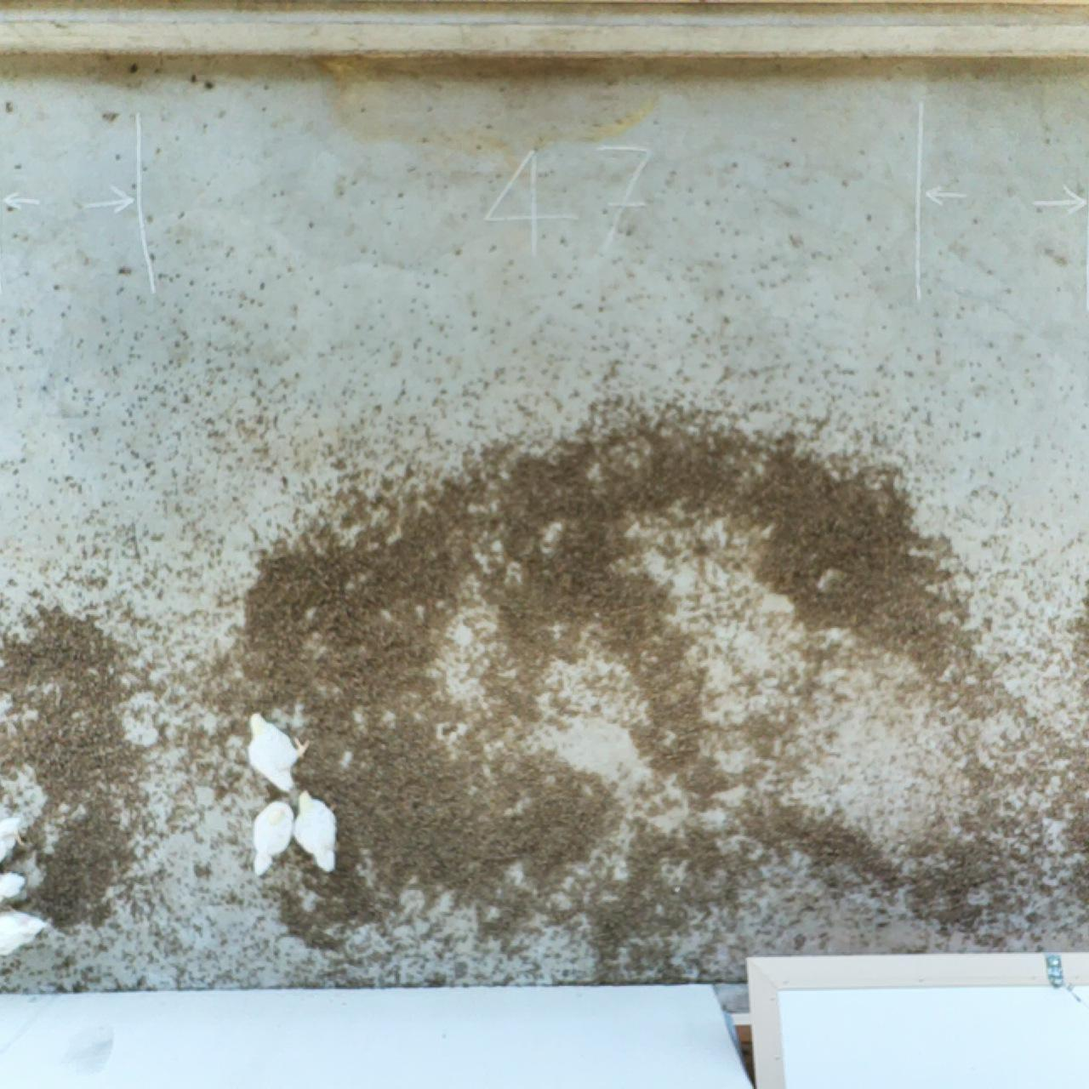chicken: (240, 704, 314, 796), (294, 784, 345, 878), (248, 795, 297, 878), (0, 905, 54, 962), (0, 807, 30, 861), (0, 869, 28, 904)
